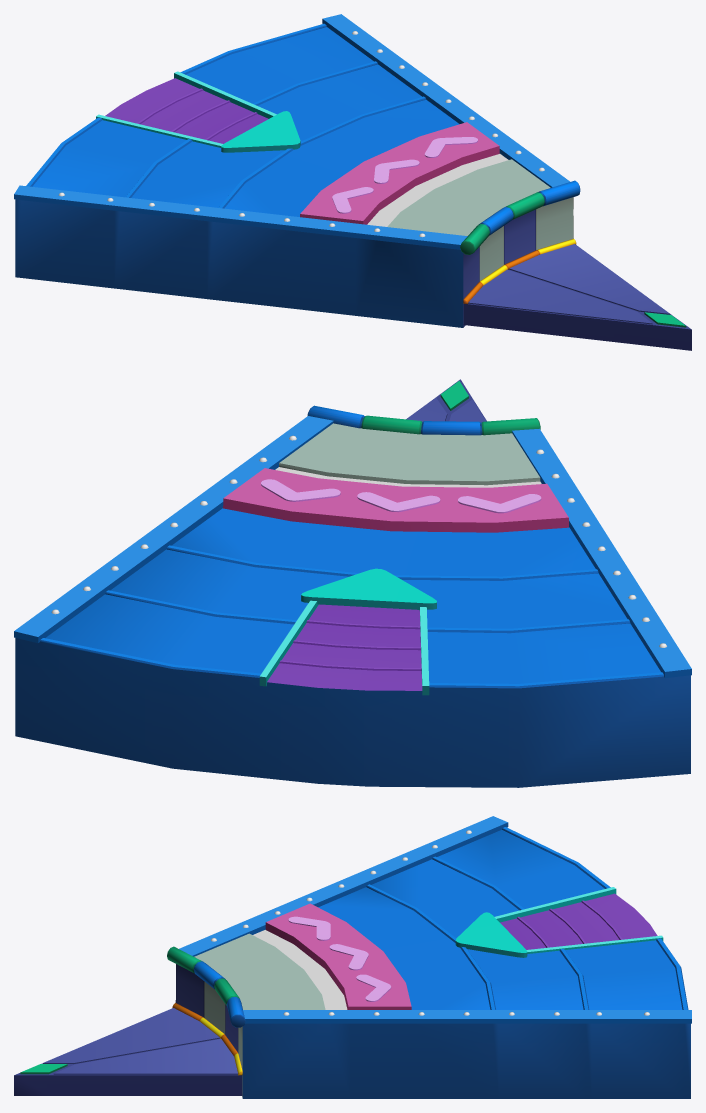
Rendered from BG_Roof_Floor_001.FBX.
The picture shows the model from 3 angles, top to bottom: view 1: azimuth 30°, elevation 25°; view 2: azimuth 150°, elevation 25°; view 3: azimuth 270°, elevation 25°; orthographic projection. The views are drawn at different scales.
Visible parts, largest first — view 1: BG_Roof_Floor_001; view 2: BG_Roof_Floor_001; view 3: BG_Roof_Floor_001.
Boxes of the visible parts, x1,y1,x2,y2 form: BG_Roof_Floor_001: (14, 14, 691, 350); BG_Roof_Floor_001: (14, 379, 691, 787); BG_Roof_Floor_001: (14, 816, 691, 1098).
Bounding box in the file's own units: 740 × 1043 × 144.
